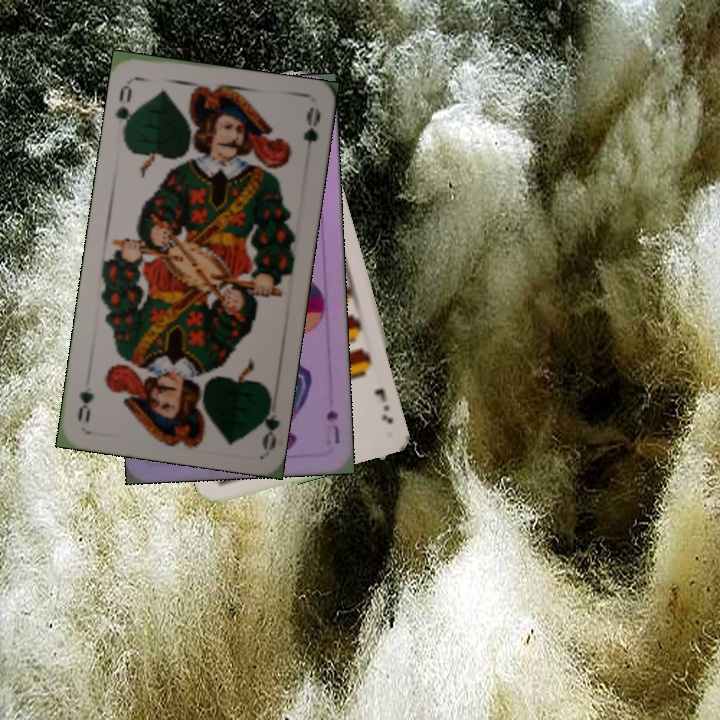E7: (369, 383, 397, 426)
GO: (253, 391, 282, 451), (111, 77, 139, 136)
SU: (322, 406, 342, 447)
